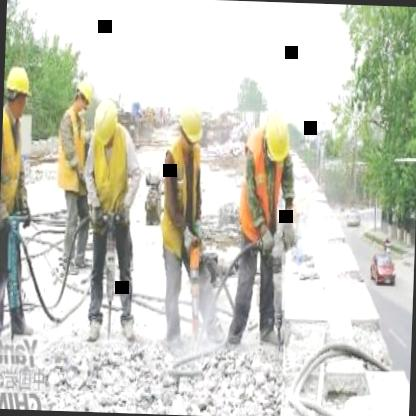helmet: (256, 106, 296, 170), (173, 97, 206, 155), (3, 62, 33, 120), (90, 95, 118, 154), (72, 73, 94, 114)
